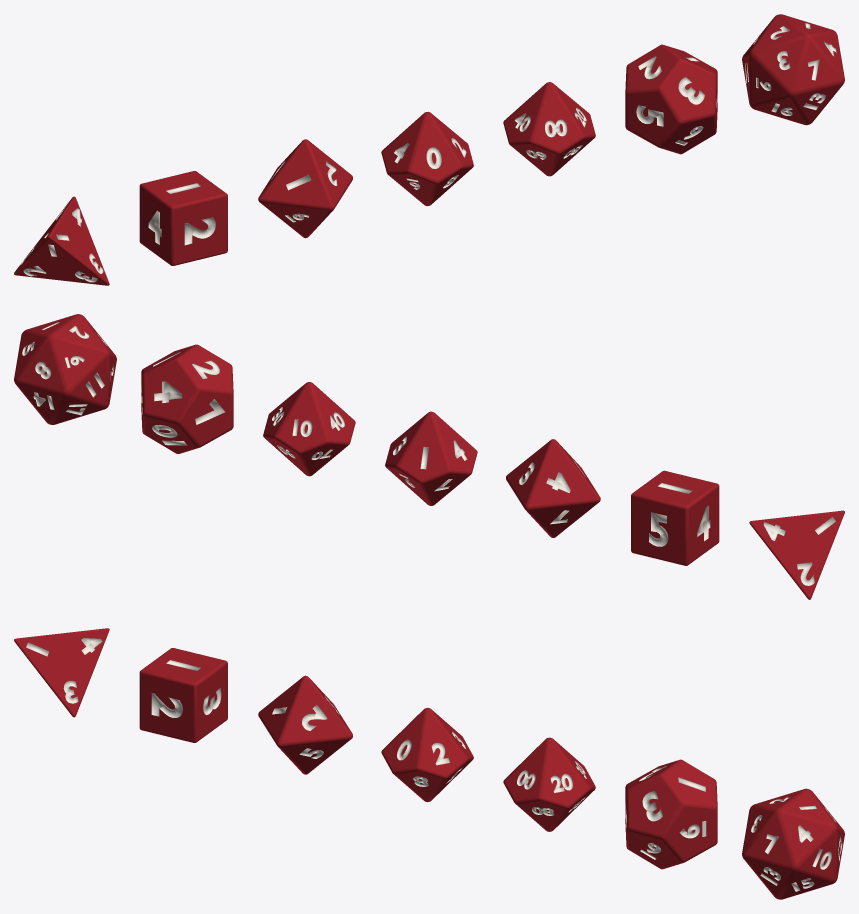
Rendered from crimson.glb.
3 renders of one model, top to bottom at view 1: azimuth 30°, elevation 25°; view 2: azimuth 150°, elevation 25°; view 3: azimuth 330°, elevation 25°, orthographic.
Visible parts, largest first — view 1: d20, d12, d6, d100, d10, d8, d4; view 2: d20, d12, d6, d100, d10, d8, d4; view 3: d20, d12, d6, d8, d10, d100, d4.
Part boxes in pixels (x1,y1,x2,y2): d20: (742, 14, 844, 125); d12: (625, 44, 717, 154); d6: (139, 171, 227, 265); d100: (503, 82, 595, 176); d10: (381, 111, 473, 205); d8: (258, 139, 352, 238); d4: (14, 196, 109, 285); d20: (14, 314, 116, 424); d12: (141, 344, 233, 453); d6: (631, 470, 719, 565); d100: (263, 382, 355, 476); d10: (385, 411, 477, 505); d8: (506, 439, 600, 537); d4: (749, 510, 844, 599); d20: (742, 788, 844, 899); d12: (625, 759, 717, 869); d6: (139, 648, 227, 742); d8: (258, 675, 352, 774); d10: (381, 708, 473, 802); d100: (503, 737, 595, 831); d4: (14, 628, 109, 717).
Size of the model in its own units: 21.14 by 2.46 by 2.46.
